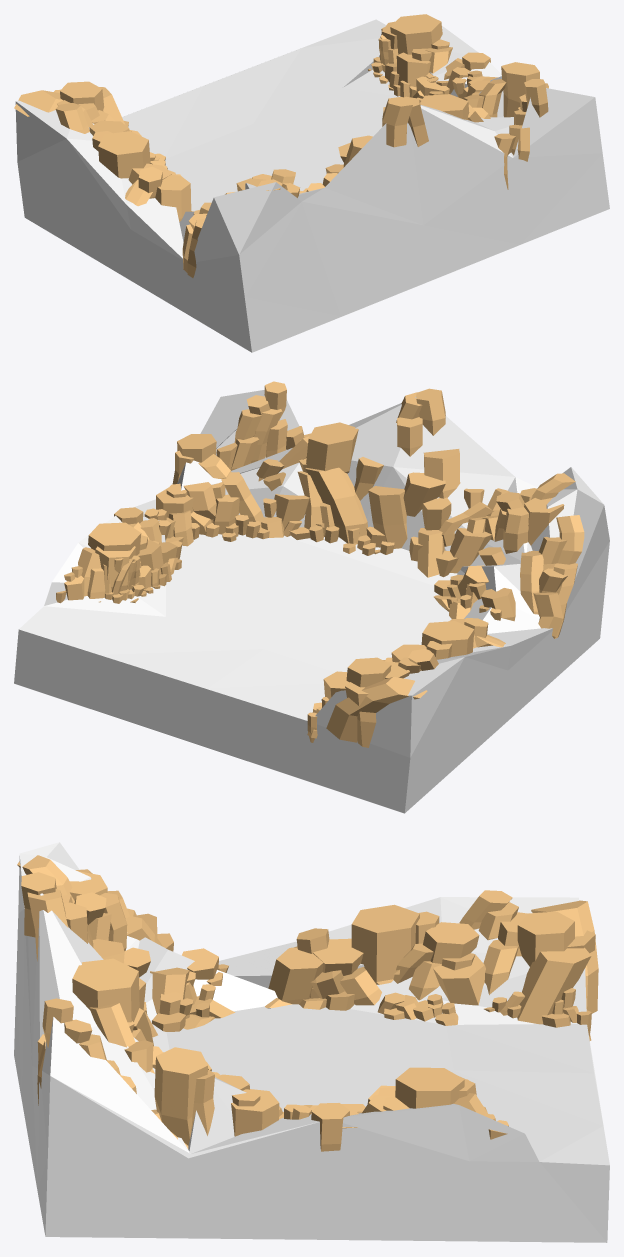
Rendered from snow-1.glb.
The picture shows the model from 3 angles, top to bottom: view 1: azimuth 30°, elevation 25°; view 2: azimuth 150°, elevation 25°; view 3: azimuth 270°, elevation 25°; orthographic projection. The views are drawn at different scales.
Parts seen in each view (by area): view 1: group1586283693, group423818086, group992904292, group6855632, group635469221, group818719132, group1798602863, group1899218596, group645997890, group1110862186, group270538316, group605995530 (+4 smaller); view 2: group1586283693, group1110862186, group1670661091, group109473454, group1899218596, group955683139, group1622696322, group992904292, group423818086, group140002579, group1209576230, group541698014 (+30 smaller); view 3: group1586283693, group423818086, group6855632, group109473454, group1041836491, group1899218596, group992904292, group1798602863, group818719132, group137237167, group1110862186, group519686499 (+27 smaller).
Part boxes in pixels (<box>): group1586283693: <box>15,19,609,352</box>; group423818086: <box>98,131,150,178</box>; group992904292: <box>390,14,442,54</box>; group6855632: <box>501,62,539,117</box>; group635469221: <box>382,97,413,147</box>; group818719132: <box>155,175,191,221</box>; group1798602863: <box>60,81,104,111</box>; group1899218596: <box>420,94,469,119</box>; group645997890: <box>396,52,430,87</box>; group1110862186: <box>14,90,62,116</box>; group270538316: <box>55,103,89,133</box>; group605995530: <box>524,79,548,117</box>; group1586283693: <box>14,390,609,813</box>; group1110862186: <box>326,676,427,742</box>; group1670661091: <box>305,467,367,543</box>; group109473454: <box>446,565,515,621</box>; group1899218596: <box>305,422,358,473</box>; group955683139: <box>368,486,407,548</box>; group1622696322: <box>417,528,458,577</box>; group992904292: <box>88,522,141,555</box>; group423818086: <box>421,621,474,656</box>; group140002579: <box>424,449,460,498</box>; group1209576230: <box>403,472,445,516</box>; group541698014: <box>450,528,491,573</box>; group1586283693: <box>14,842,609,1242</box>; group423818086: <box>351,904,419,984</box>; group6855632: <box>154,1047,207,1145</box>; group109473454: <box>150,948,228,1018</box>; group1041836491: <box>517,947,591,1024</box>; group1899218596: <box>72,958,139,1032</box>; group992904292: <box>395,1067,464,1108</box>; group1798602863: <box>517,911,574,966</box>; group818719132: <box>268,947,323,1004</box>; group137237167: <box>423,922,479,963</box>; group1110862186: <box>531,900,598,1013</box>; group519686499: <box>433,955,485,1005</box>.
Bounding box in the file's own units: 1.61 × 0.8484 × 1.55.
